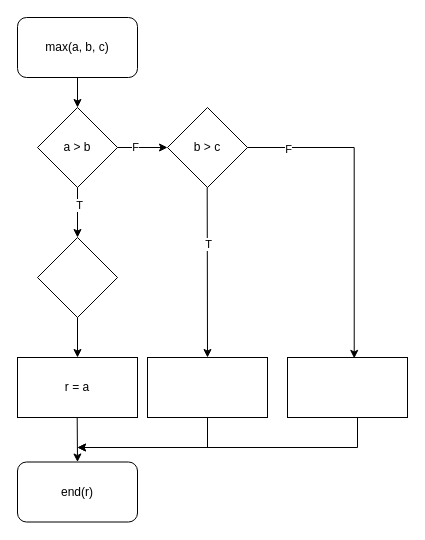
Some shapes in this 425 by 540 pixel diagram are drawn without their labels. The centre of each missing label's shape, as x and y in pixels:
"a > c" goes at (77,277).
"r = b" goes at (207,387).
"r = c" goes at (347,387).
